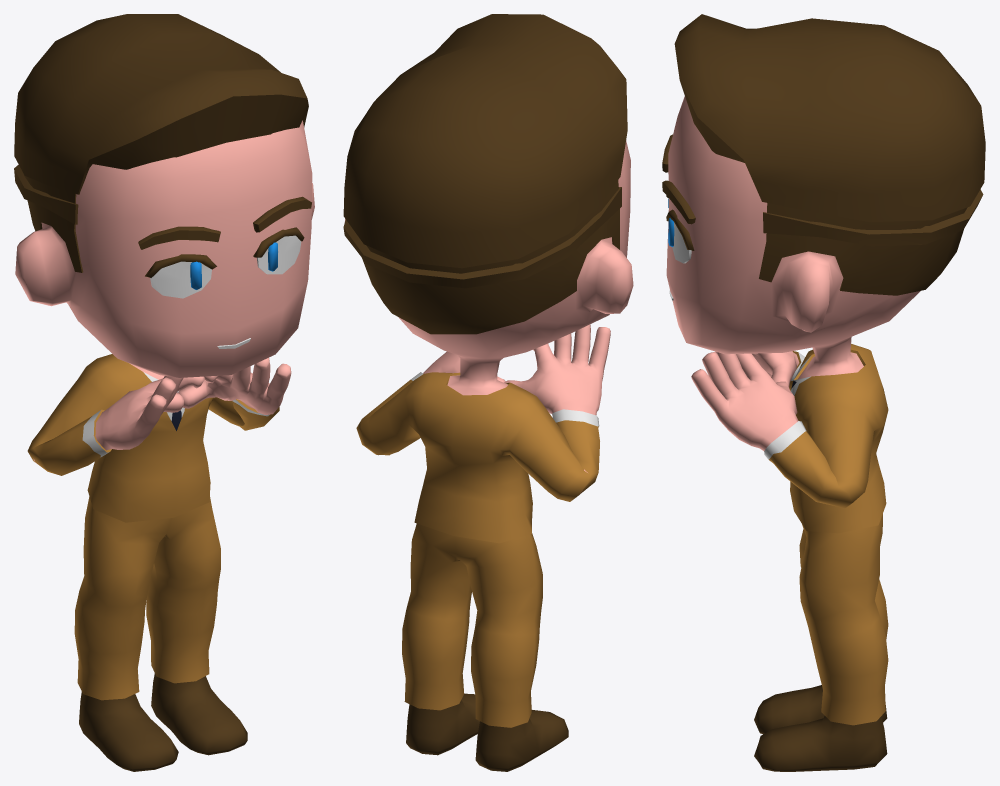
Rendered from Personajes_juzgado.fbx.
3 views of the same model, side by side, from view 1: azimuth 30°, elevation 25°; view 2: azimuth 150°, elevation 25°; view 3: azimuth 270°, elevation 25° (orthographic). The views are drawn at different scales.
Visible parts, largest first — view 1: body.011, hair3.001, pants1.011, shirt3.011, socks.011, eyesbase2.007, eyebrows1.011, eyes1.002; view 2: hair3.001, shirt3.011, pants1.011, body.011, socks.011; view 3: hair3.001, body.011, shirt3.011, pants1.011, socks.011, eyebrows1.011, eyesbase2.007.
Boxes of the visible parts, x1,y1,x2,y2 form: body.011: (15,120,314,463); hair3.001: (14,14,308,272); pants1.011: (74,496,220,700); shirt3.011: (27,354,279,522); socks.011: (79,673,247,771); eyesbase2.007: (145,227,304,298); eyebrows1.011: (138,196,311,249); eyes1.002: (190,242,277,289); hair3.001: (343,14,627,334); shirt3.011: (356,372,599,543); pants1.011: (402,523,542,727); body.011: (344,140,633,493); socks.011: (406,693,568,771); hair3.001: (674,14,985,295); body.011: (666,96,920,450); shirt3.011: (764,343,888,533); pants1.011: (799,514,888,725); socks.011: (754,685,887,771); eyebrows1.011: (662,134,695,224); eyesbase2.007: (666,195,694,263).
Size of the model in its own units: 74.78 by 173 by 70.97.
